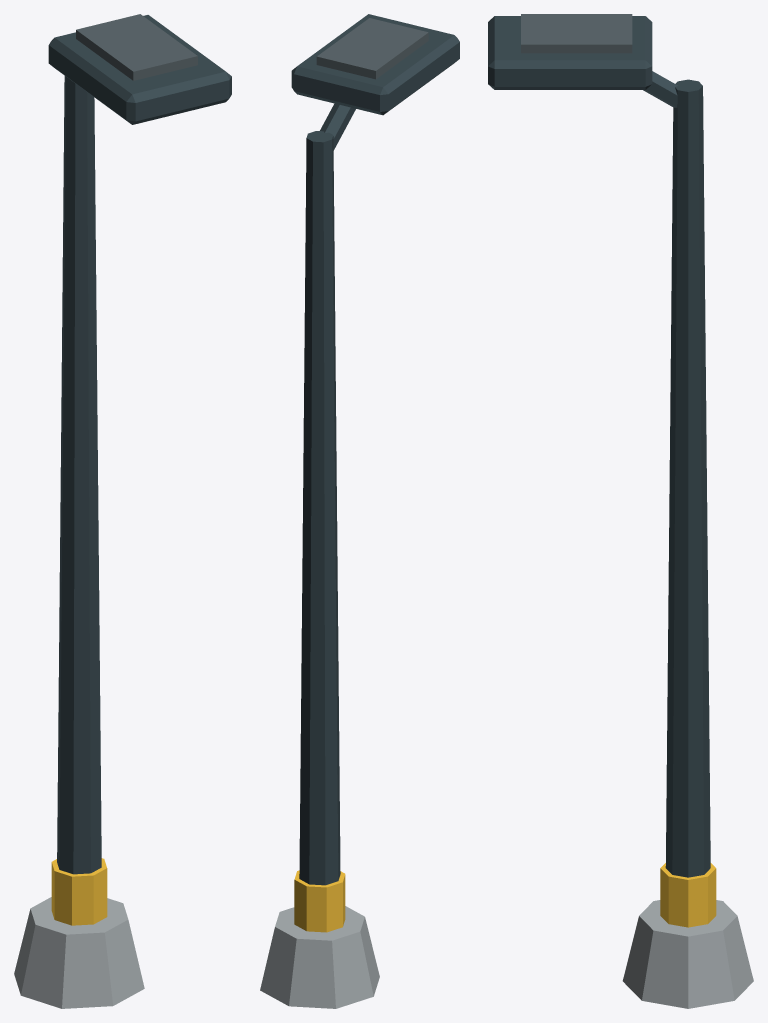
Rendered from sm_env_shed_lamp_post.glb.
The picture shows the model from 3 angles, left to right: view 1: azimuth 30°, elevation 25°; view 2: azimuth 150°, elevation 25°; view 3: azimuth 270°, elevation 25°; orthographic projection. The views are drawn at different scales.
Parts seen in each view (by area): view 1: Pole, Footing, Head, HeadTop, Collar; view 2: Pole, Footing, Head, HeadTop, Collar, Arm; view 3: Pole, Footing, Head, HeadTop, Collar, Arm.
Part boxes in pixels (left/top/right/bottom): Pole: left=57, top=76, right=101, bottom=874; Footing: left=14, top=897, right=144, bottom=1008; Head: left=48, top=15, right=231, bottom=124; HeadTop: left=76, top=14, right=197, bottom=80; Collar: left=51, top=858, right=107, bottom=925; Pole: left=299, top=131, right=340, bottom=885; Footing: left=260, top=906, right=379, bottom=1008; Head: left=291, top=14, right=459, bottom=115; HeadTop: left=316, top=18, right=428, bottom=79; Collar: left=294, top=870, right=345, bottom=932; Arm: left=320, top=103, right=355, bottom=150; Pole: left=665, top=79, right=710, bottom=877; Footing: left=622, top=900, right=753, bottom=1008; Head: left=488, top=16, right=652, bottom=89; HeadTop: left=521, top=14, right=632, bottom=53; Collar: left=660, top=863, right=716, bottom=927; Arm: left=643, top=71, right=677, bottom=107.
Size of the model in its own units: 0.4 by 3.2 by 0.81.
